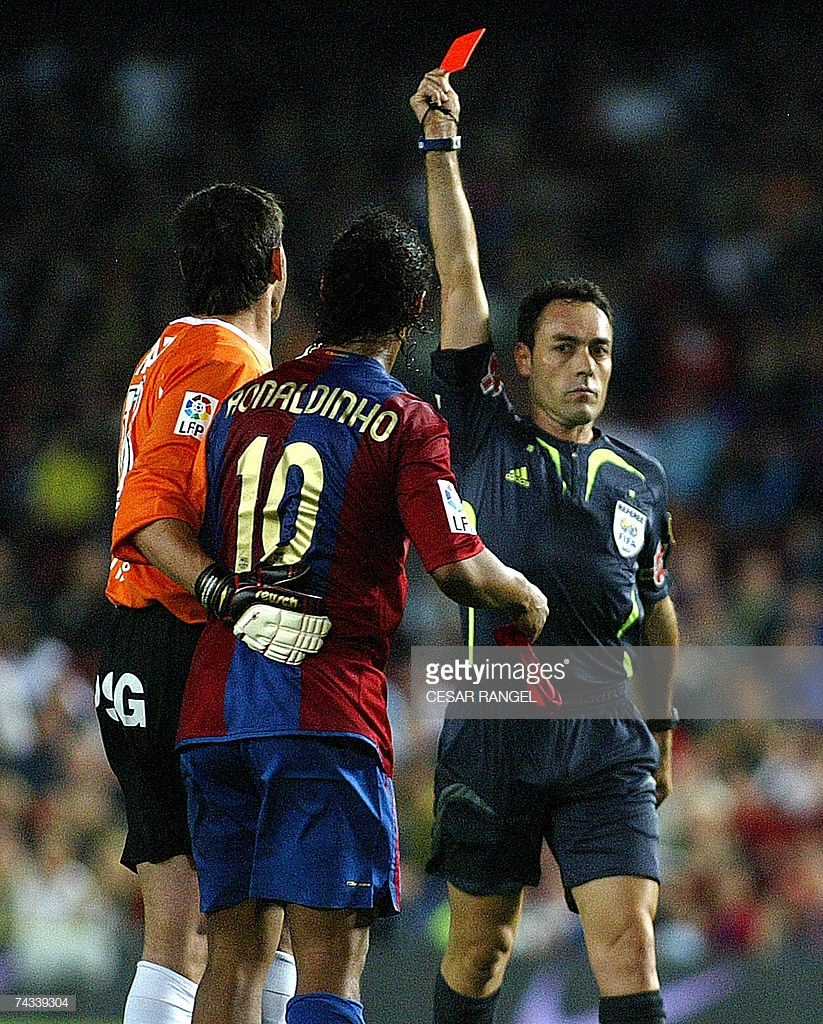red_card: (390, 34, 525, 162)
